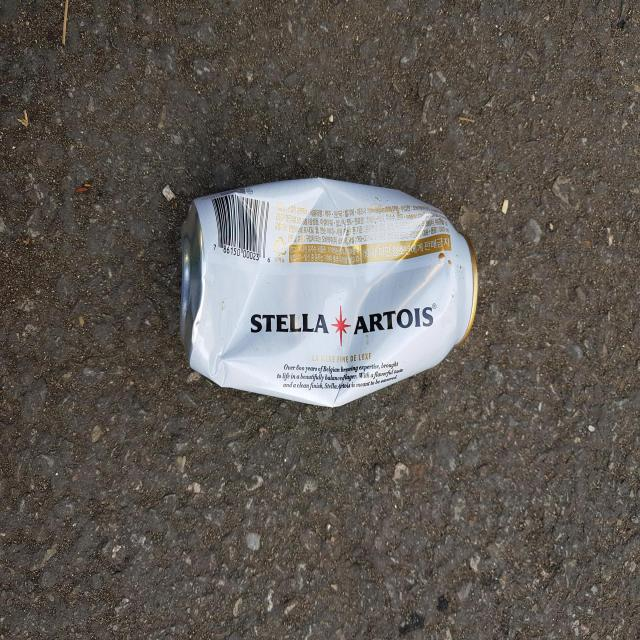can: (180, 178, 478, 407)
